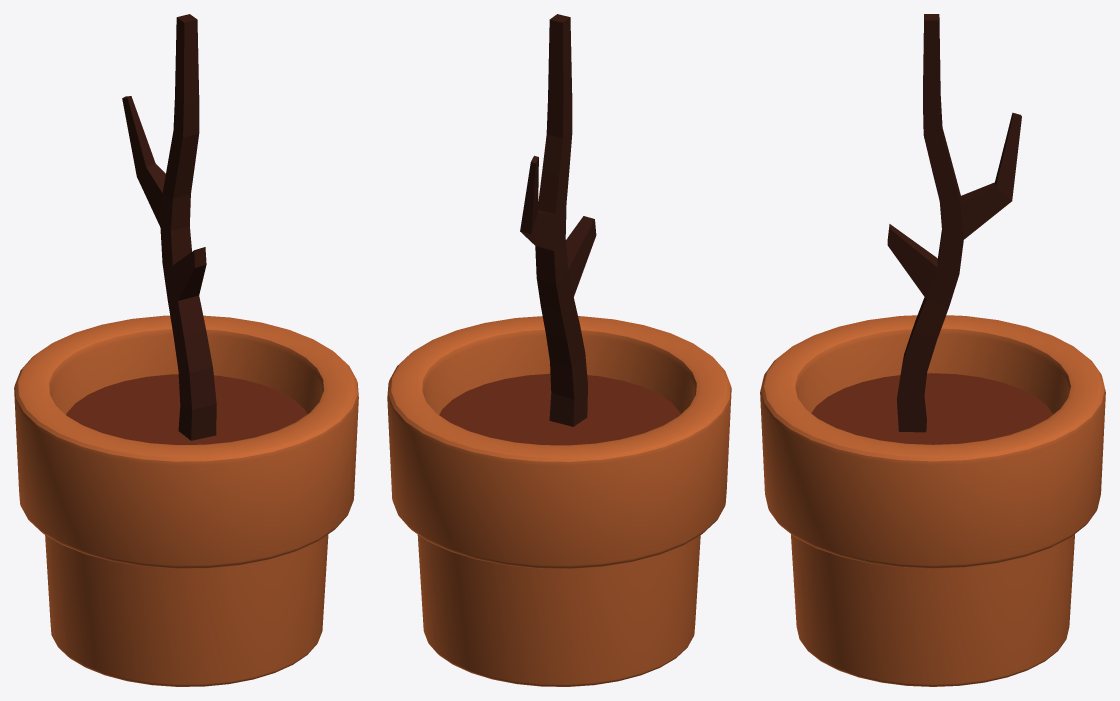
The model's file is FlowerBack.fbx.
3 renders of one model, left to right at view 1: azimuth 30°, elevation 25°; view 2: azimuth 150°, elevation 25°; view 3: azimuth 270°, elevation 25°, orthographic.
Parts seen in each view (by area): view 1: Cactus, Cube, Cylinder; view 2: Cactus, Cube, Cylinder; view 3: Cactus, Cube, Cylinder.
Part boxes in pixels (box(x1,y1,x2,y2)): Cactus: box(14, 315, 358, 686); Cube: box(122, 14, 216, 440); Cylinder: box(66, 374, 307, 444); Cactus: box(387, 316, 731, 686); Cube: box(520, 14, 596, 426); Cylinder: box(439, 373, 680, 445); Cactus: box(760, 315, 1105, 686); Cube: box(887, 14, 1021, 432); Cylinder: box(811, 373, 1052, 444).
Bounding box in the file's own units: 0.9877 × 2.01 × 0.9877.
